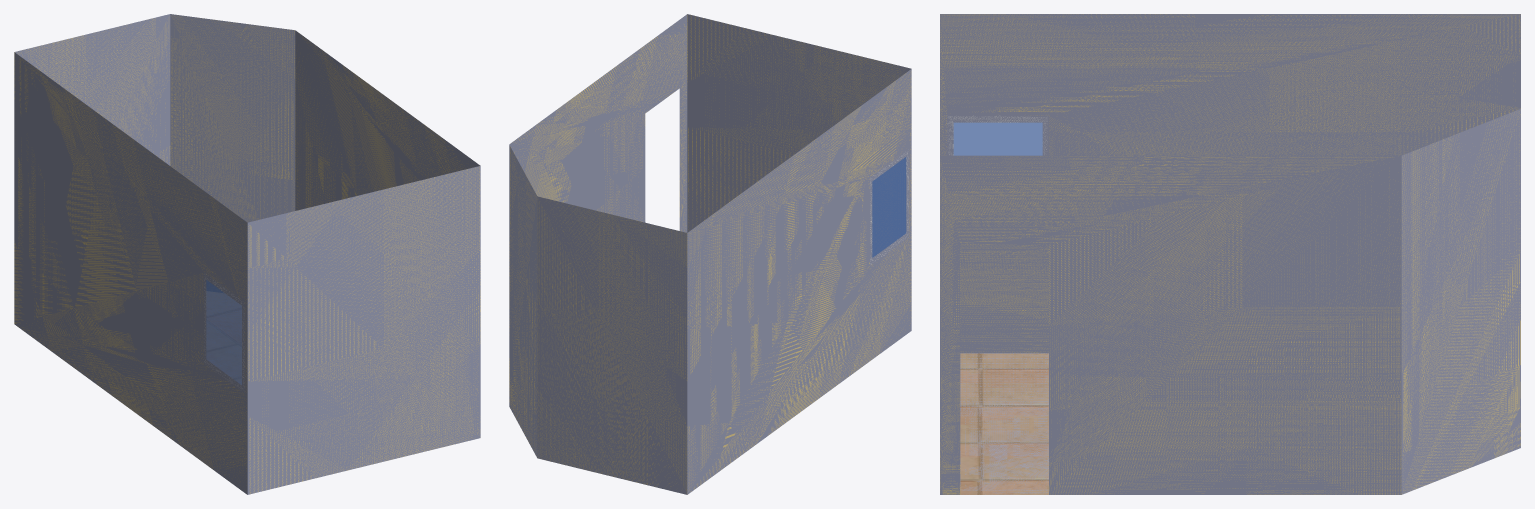
The model's file is DES032.obj.
3 views of the same model, side by side, from view 1: azimuth 30°, elevation 25°; view 2: azimuth 150°, elevation 25°; view 3: azimuth 270°, elevation 25° (orthographic). The views are drawn at different scales.
Parts seen in each view (by area): view 1: Mesh1 DES032 Model; view 2: Mesh1 DES032 Model; view 3: Mesh1 DES032 Model.
Part boxes in pixels (x1,y1,x2,y2): Mesh1 DES032 Model: (14,14,480,494); Mesh1 DES032 Model: (509,14,911,494); Mesh1 DES032 Model: (940,14,1520,494).
Size of the model in its own units: 2.69 by 3 by 4.66.
5 materials, 1 textured.
